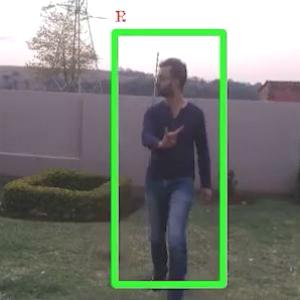takeoff-hand: (158, 116, 188, 153)
